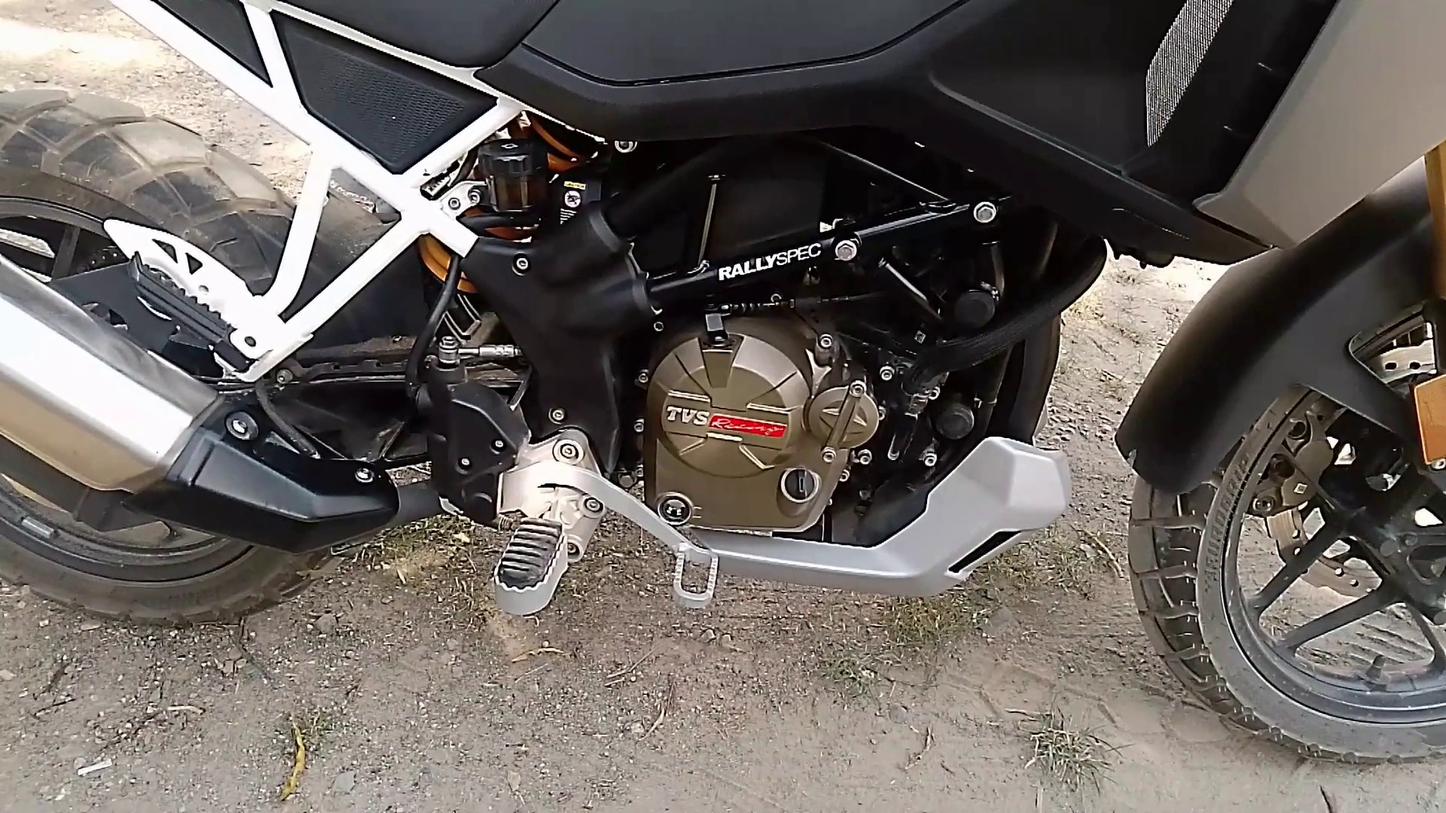engine: (633, 188, 955, 563)
oil_cap: (766, 454, 825, 512)
oil_marker: (646, 486, 710, 533)
